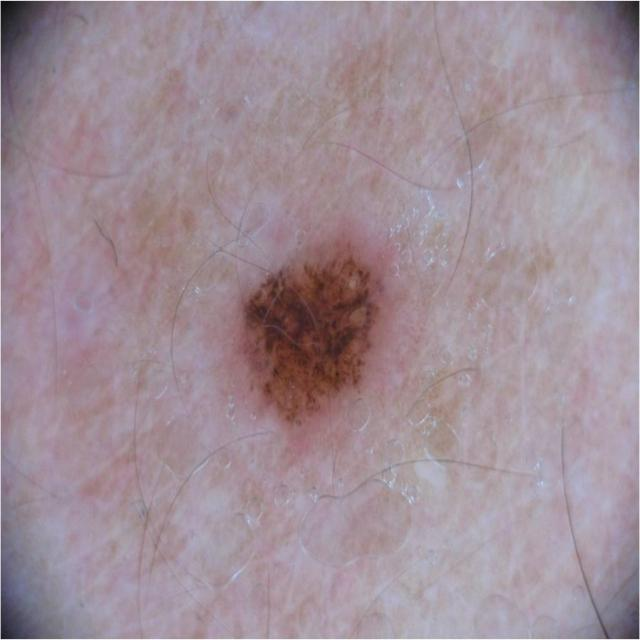Benign: (236, 237, 394, 428)
